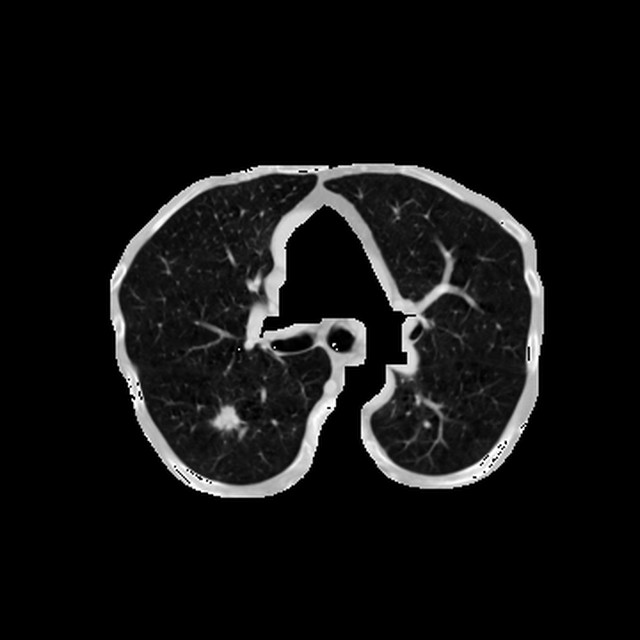PN: (213, 405, 238, 430)
